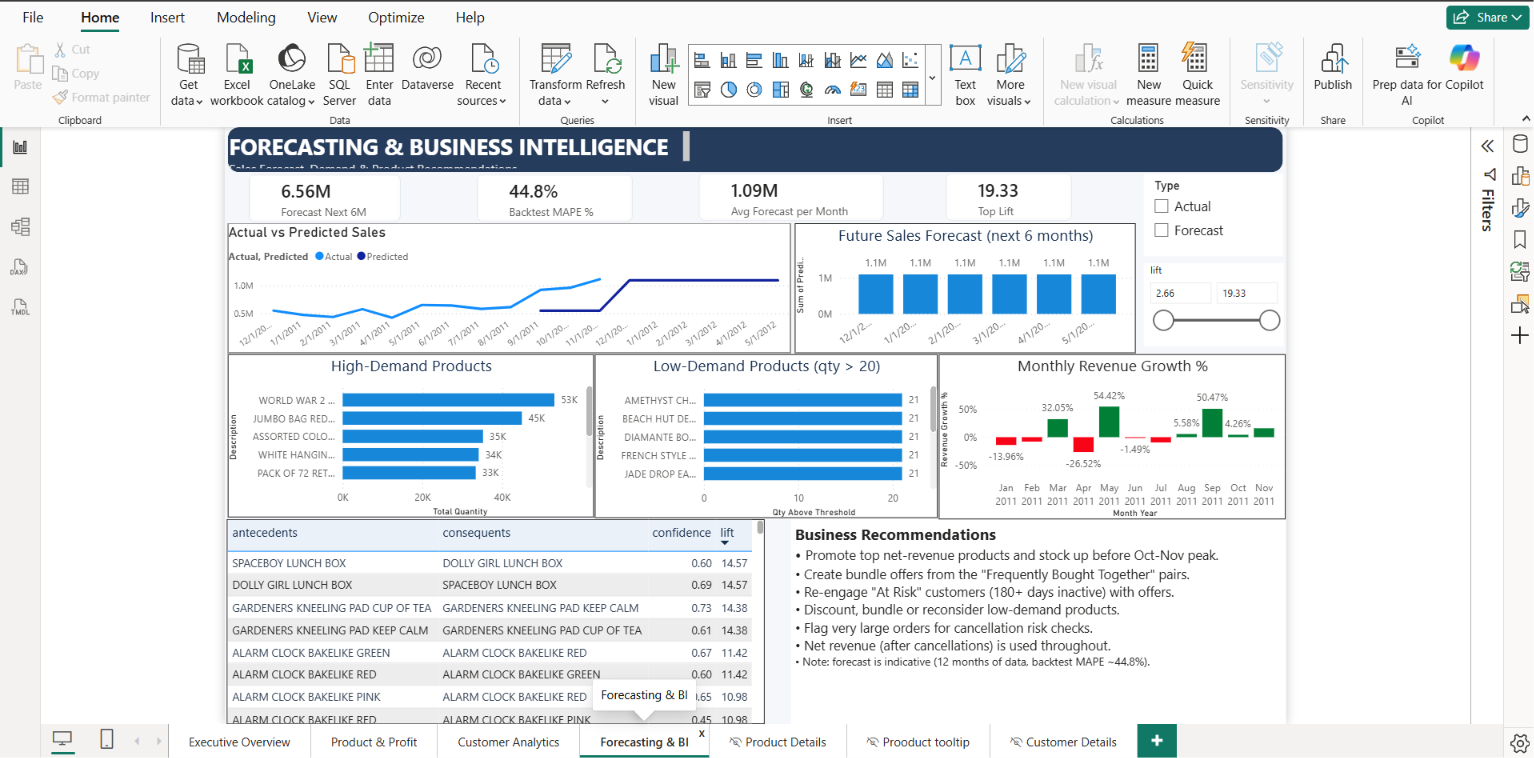

The dashboard page shown, as its layout file describes it:
{"tool":"powerbi","page":{"name":"Forecasting & BI","canvas":[1280,720],"ordinal":3},"visuals":[{"type":"tableEx","title":"Frequently Bought Together","fields":{"Values":["recommendations.antecedents","recommendations.consequents","recommendations.confidence","recommendations.lift"]},"box":[2.4,472.9,649.1,247.3],"z":0},{"type":"clusteredBarChart","title":"High-Demand Products","fields":{"Category":["output.Description"],"Y":["output.Total Quantity"]},"box":[3.6,273.9,441.6,196.6],"z":1000},{"type":"textbox","box":[682.8,472.9,597.2,247.3],"z":2000},{"type":"cardVisual","fields":{"Data":["forecast_v2.Forecast Next 6M"]},"box":[29,56.7,183.4,57.9],"z":3000},{"type":"clusteredColumnChart","title":"Future Sales Forecast (next 6 months)","fields":{"Category":["forecast_v2.Month Label"],"Y":["Sum(forecast_v2.Predicted)"]},"box":[687.7,115.8,411.4,156.8],"z":4000},{"type":"lineChart","title":"Actual vs Predicted Sales","fields":{"Category":["forecast_v2.Month Label"],"Y":["Sum(forecast_v2.Actual)","Sum(forecast_v2.Predicted)"]},"box":[3.6,115.8,679.2,156.8],"z":5000},{"type":"clusteredBarChart","title":"Low-Demand Products (qty > 20)","fields":{"Category":["output.Description"],"Y":["output.Qty Above Threshold"]},"box":[446.4,273.9,413.8,197.9],"z":6000},{"type":"shape","box":[3.6,0,1272.8,54.3],"z":7000},{"type":"textbox","box":[0,0,565.8,54.3],"z":8000},{"type":"cardVisual","fields":{"Data":["forecast_v2.Avg Forecast per Month"]},"box":[571.9,55.5,223.2,57.9],"z":9000},{"type":"cardVisual","fields":{"Data":["forecast_v2.Backtest MAPE %"]},"box":[304,56.7,188.2,57.9],"z":10000},{"type":"cardVisual","fields":{"Data":["forecast_v2.Top Lift"]},"box":[869.8,55.5,152,57.9],"z":11000},{"type":"clusteredColumnChart","title":"Monthly Revenue Growth %","fields":{"Category":["DateTable.Month Year"],"Y":["output.Revenue Growth %"]},"box":[861.4,273.9,418.6,199.1],"z":12000},{"type":"slicer","fields":{"Values":["forecast_v2.Type"]},"box":[1108.7,56.7,167.7,98.9],"z":13000},{"type":"slicer","fields":{"Values":["recommendations.lift"]},"box":[1108.7,164.1,167.7,100.1],"z":14000}]}

Visuals, with their boxes on the page's 1280x720 design canvas (x1, y1, x2, y2). These are canvas units, not pixel positions in the 1534x758 screenshot, which may show the page scaled, cropped or inside an application window:
"Frequently Bought Together" tableEx: bbox(2, 473, 652, 720)
"High-Demand Products" clusteredBarChart: bbox(4, 274, 445, 470)
textbox: bbox(683, 473, 1280, 720)
cardVisual - forecast_v2.Forecast Next 6M: bbox(29, 57, 212, 115)
"Future Sales Forecast (next 6 months)" clusteredColumnChart: bbox(688, 116, 1099, 273)
"Actual vs Predicted Sales" lineChart: bbox(4, 116, 683, 273)
"Low-Demand Products (qty > 20)" clusteredBarChart: bbox(446, 274, 860, 472)
shape: bbox(4, 0, 1276, 54)
textbox: bbox(0, 0, 566, 54)
cardVisual - forecast_v2.Avg Forecast per Month: bbox(572, 56, 795, 113)
cardVisual - forecast_v2.Backtest MAPE %: bbox(304, 57, 492, 115)
cardVisual - forecast_v2.Top Lift: bbox(870, 56, 1022, 113)
"Monthly Revenue Growth %" clusteredColumnChart: bbox(861, 274, 1280, 473)
slicer - forecast_v2.Type: bbox(1109, 57, 1276, 156)
slicer - recommendations.lift: bbox(1109, 164, 1276, 264)
